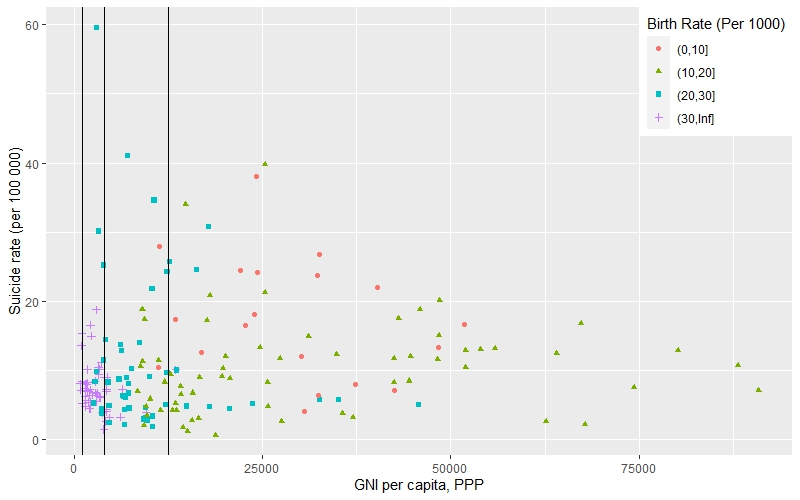

This screenshot's page, from the dashboard's own definition file:
{"tool":"powerbi","page":{"name":"Page 3","canvas":[1280,720],"ordinal":2},"visuals":[{"type":"scatterChart","fields":{"Y":["suicide_gni_birth.avg_suicide_rate"],"X":["suicide_gni_birth.avg_gni"],"Series":["suicide_gni_birth.birth_rate_range"]},"box":[0,0,1280,719.8],"z":0}]}

Visuals, with their boxes on the page's 1280x720 design canvas (x1, y1, x2, y2). These are canvas units, not pixel positions in the 800x500 screenshot, which may show the page scaled, cropped or inside an application window:
scatterChart - suicide_gni_birth.avg_suicide_rate x suicide_gni_birth.avg_gni: (x1=0, y1=0, x2=1280, y2=720)
